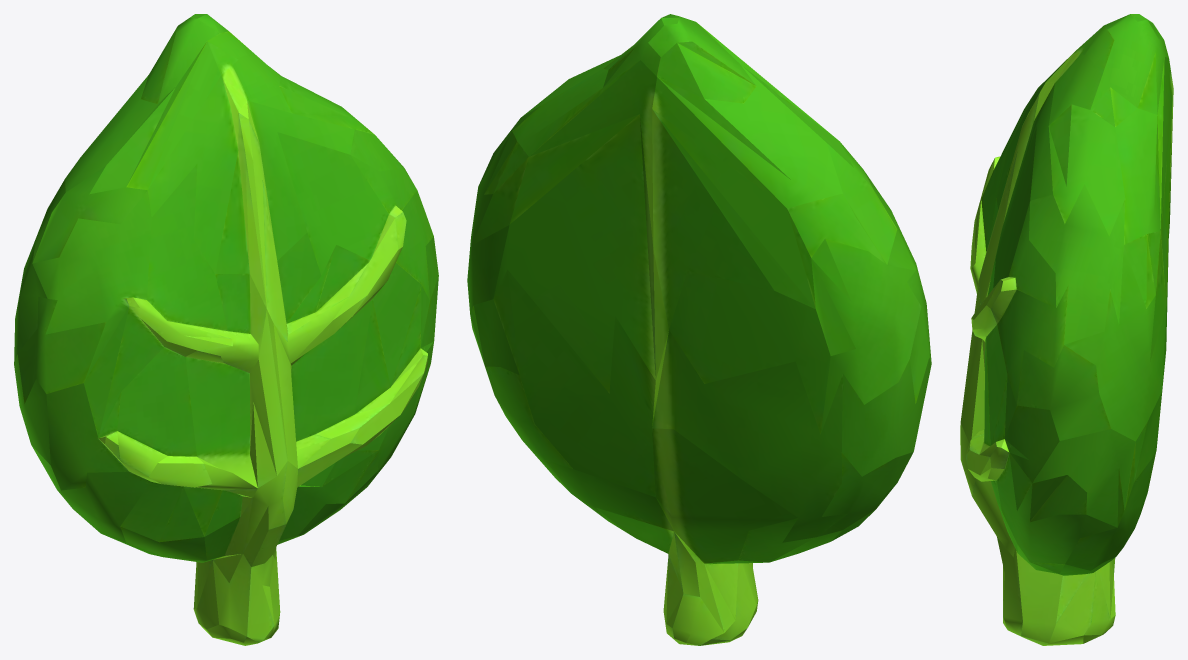
Rendered from leaf.glb.
3 views of the same model, side by side, from view 1: azimuth 30°, elevation 25°; view 2: azimuth 150°, elevation 25°; view 3: azimuth 270°, elevation 25° (orthographic). The views are drawn at different scales.
Size of the model in its own units: 1.34 by 1.89 by 0.5877.
Materials: 1 (1 with a texture image).
